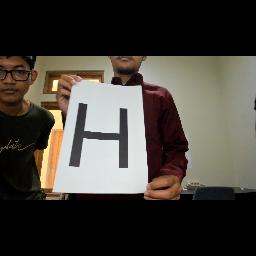h: (67, 100, 139, 172)
